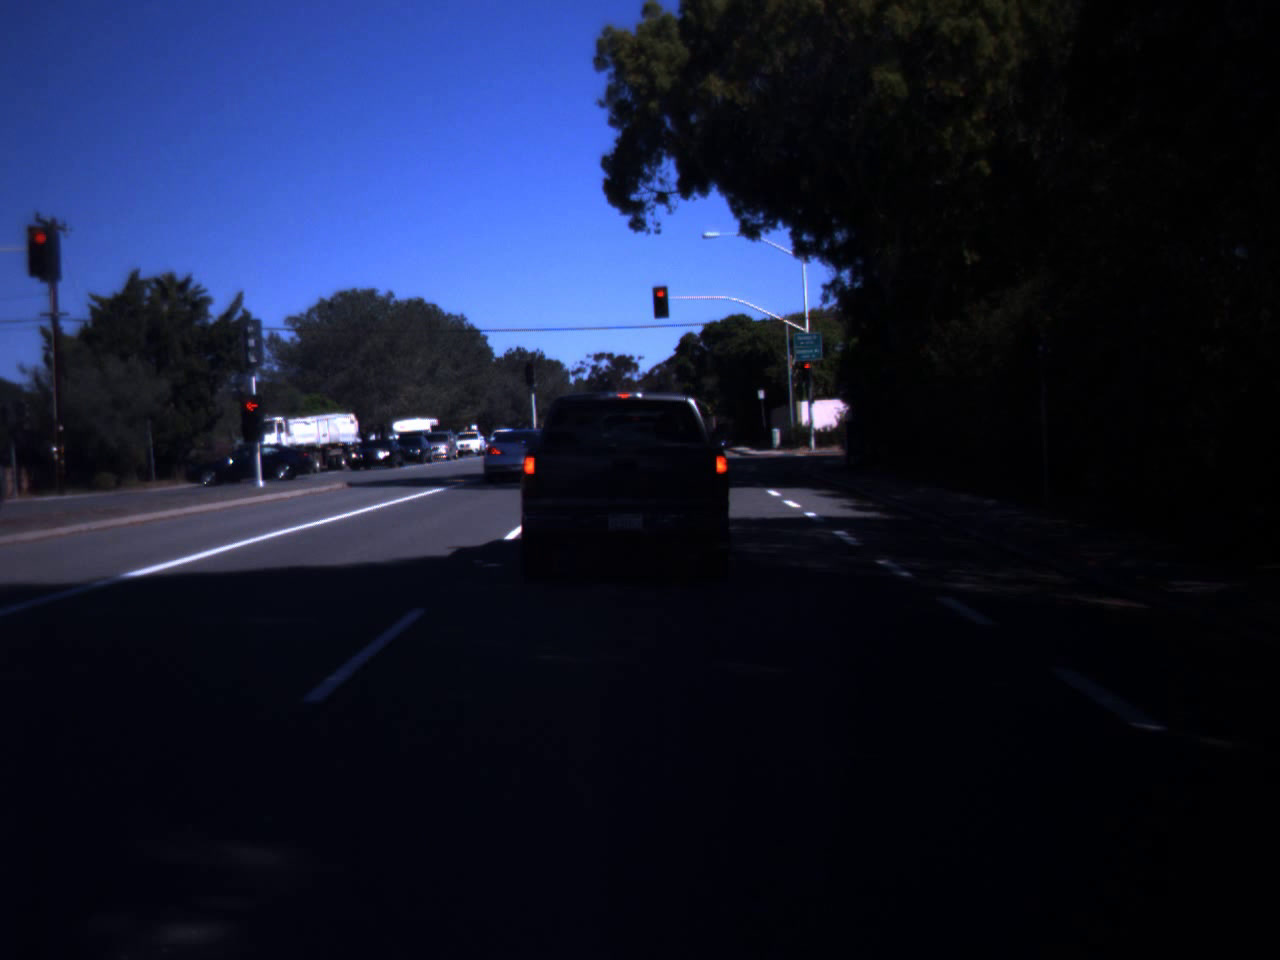stop: (26, 229, 56, 269), (237, 399, 267, 430), (653, 290, 668, 308)
